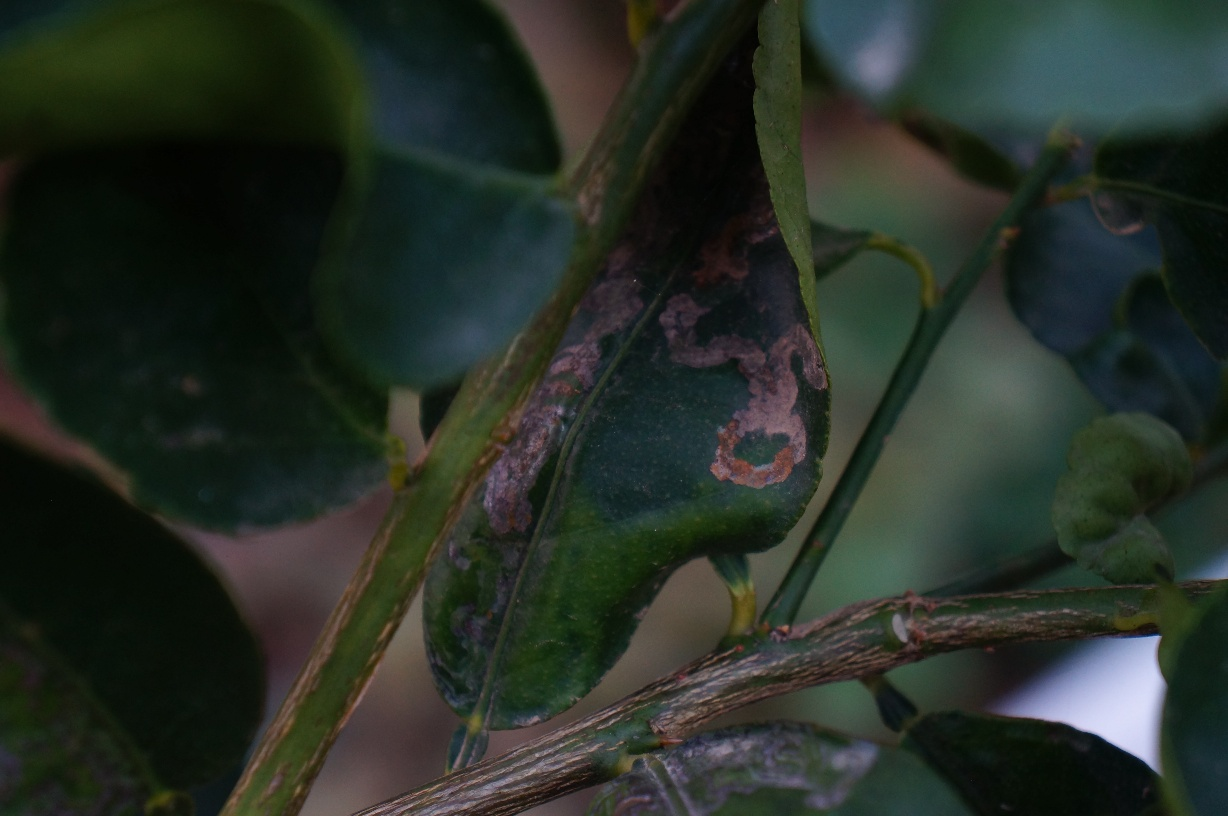damage: (447, 263, 826, 545)
